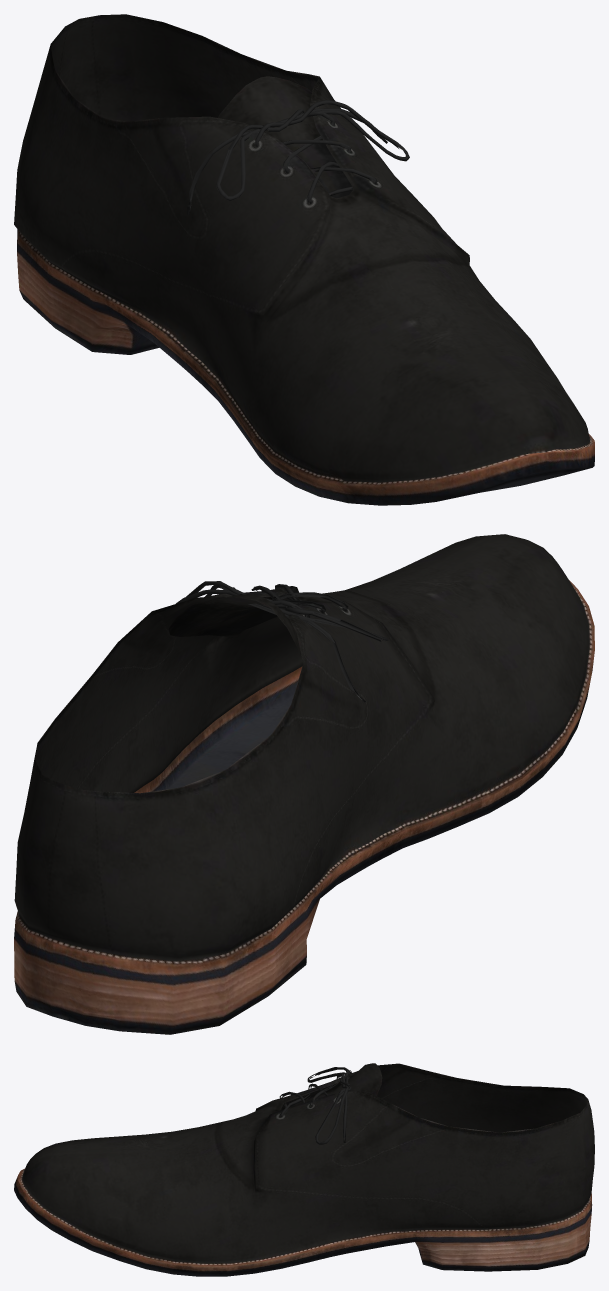
File: Shoes5_L.fbx
The picture shows the model from 3 angles, top to bottom: view 1: azimuth 30°, elevation 25°; view 2: azimuth 150°, elevation 25°; view 3: azimuth 270°, elevation 25°; orthographic projection. The views are drawn at different scales.
Visible parts, largest first — view 1: avaturn_shoes_0.001; view 2: avaturn_shoes_0.001; view 3: avaturn_shoes_0.001.
Boxes of the visible parts, x1,y1,x2,y2 form: avaturn_shoes_0.001: (14, 14, 594, 505); avaturn_shoes_0.001: (14, 534, 594, 1034); avaturn_shoes_0.001: (14, 1063, 594, 1276).
Bounding box in the file's own units: 10.29 × 10.19 × 29.44.
1 material, 1 textured.
